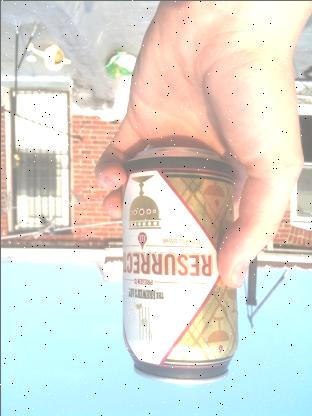Can: (103, 135, 241, 389)
